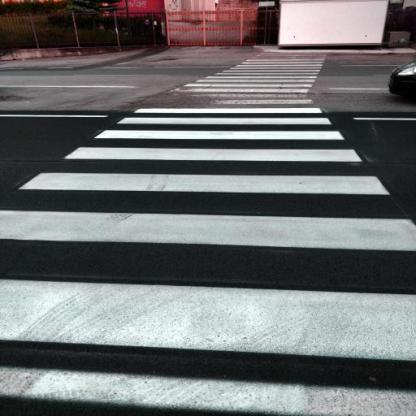crosswalk: (9, 145, 403, 202), (106, 106, 340, 127)
